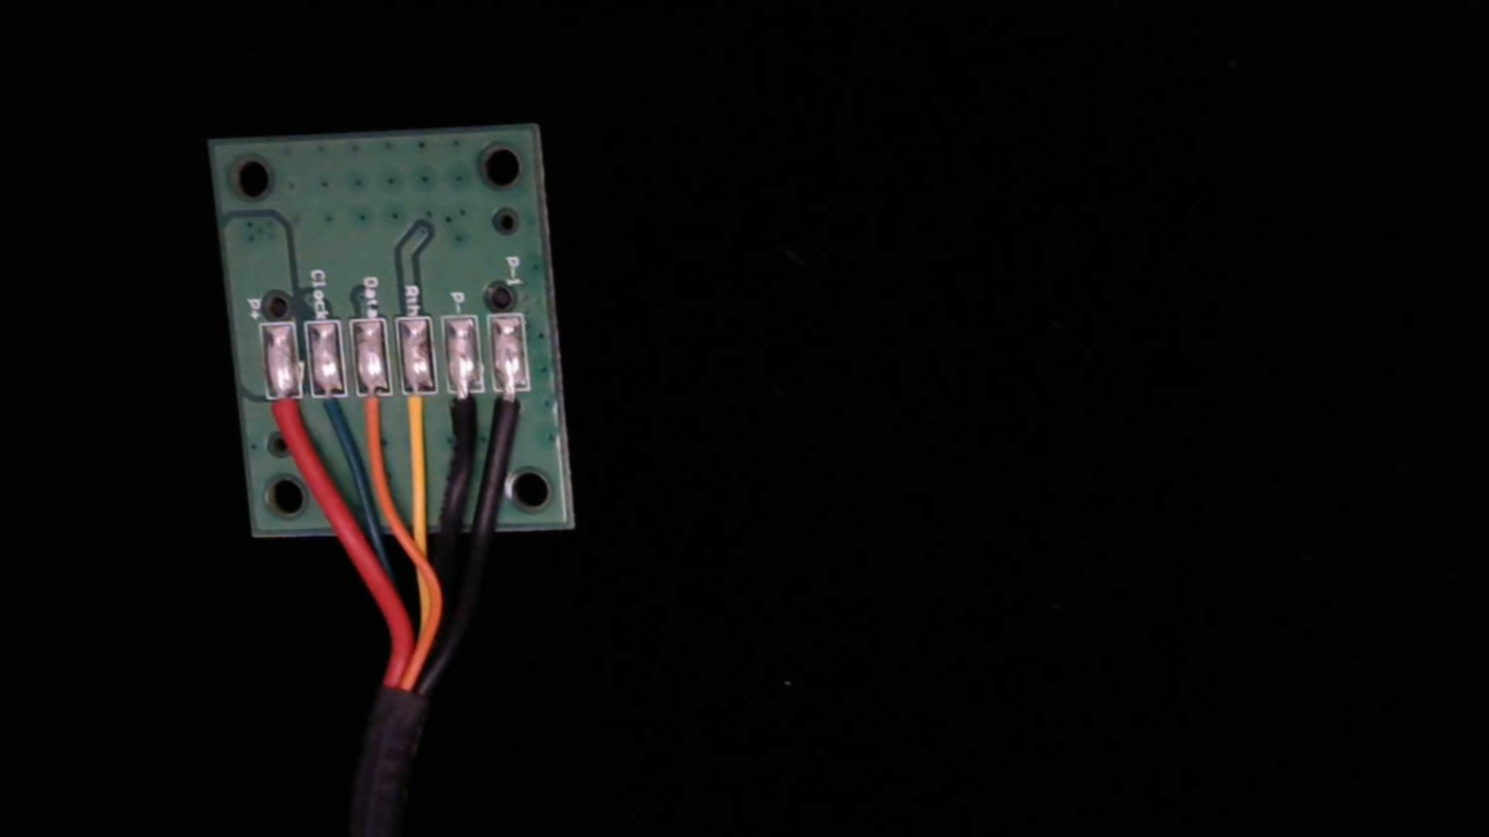Black: (444, 363, 488, 450)
Black1: (491, 364, 533, 445)
Green: (307, 371, 352, 454)
Orange: (354, 366, 395, 452)
Red: (262, 373, 307, 456)
Yellow: (394, 366, 438, 455)
